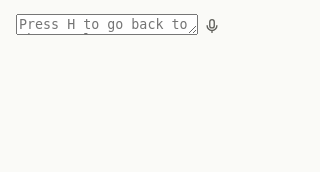
Test: the live transcript shows in the composer, the final text stays editable
The width and height of the screenshot is (320, 172).
Later steps or results of the test are not shown.
Click the button named "Dictate": (212, 26) top-left (198, 12), bottom-right (226, 40)
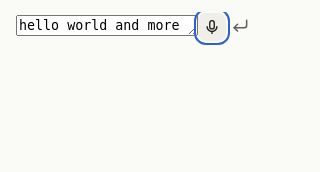
Check: the text box named "Message" holds "hello world and more", box top-left (16, 15), bottom-right (198, 36)
Click the button named "Stop dictation": (212, 27) top-left (198, 13), bottom-right (226, 41)
In the text box named "Message": (107, 26) top-left (16, 15), bottom-right (198, 36), type "!"
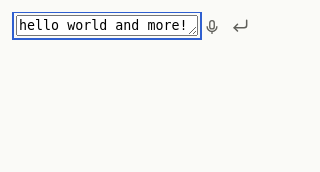
Check: the text box named "Message" holds "hello world and more!", box top-left (16, 15), bottom-right (198, 36)
